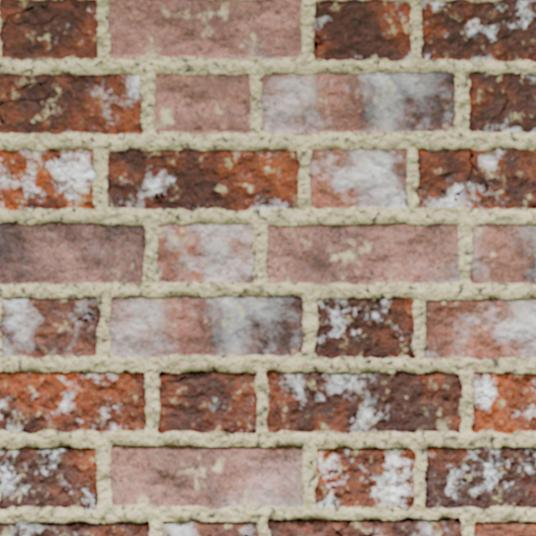brick: (266, 370, 461, 434), (110, 446, 302, 508), (109, 295, 302, 356), (107, 149, 298, 210), (261, 72, 455, 132), (266, 224, 458, 283), (109, 0, 300, 57), (0, 372, 145, 433), (0, 223, 144, 283), (0, 74, 141, 133), (416, 149, 535, 210), (421, 0, 535, 61), (425, 447, 535, 508), (425, 299, 535, 359), (315, 447, 415, 510), (315, 297, 414, 358), (158, 371, 256, 432), (0, 447, 96, 509), (0, 298, 99, 357), (0, 148, 94, 209), (310, 149, 406, 208), (157, 223, 253, 282), (314, 0, 410, 59), (0, 0, 96, 58), (155, 74, 249, 133), (469, 72, 535, 132), (472, 373, 535, 433), (471, 225, 535, 282), (0, 520, 148, 535), (341, 518, 461, 535), (163, 519, 257, 535), (268, 519, 346, 535), (474, 522, 535, 535), (160, 372, 200, 380)
crack: (453, 148, 491, 201), (0, 1, 57, 29), (292, 373, 320, 412), (64, 308, 99, 336), (159, 387, 211, 399), (160, 371, 204, 384), (142, 148, 188, 159), (330, 520, 350, 535), (313, 35, 324, 50), (315, 0, 332, 4), (447, 109, 455, 117), (295, 332, 303, 340), (403, 198, 407, 204), (244, 533, 251, 535)
